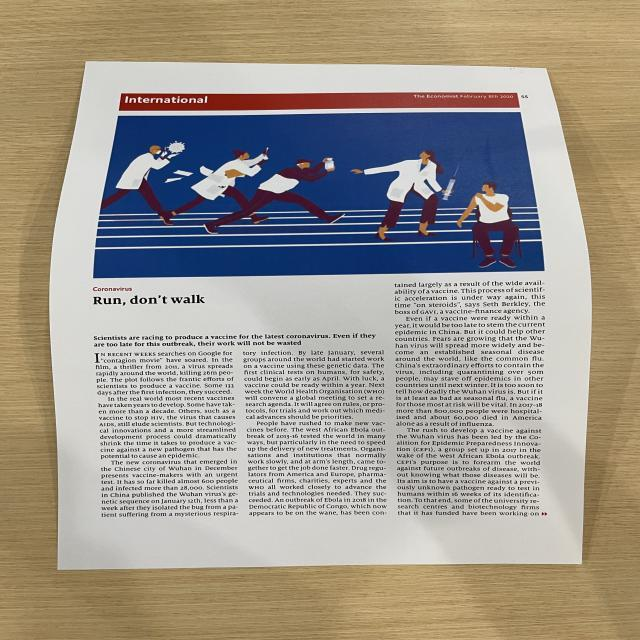document: (50, 62, 590, 569)
